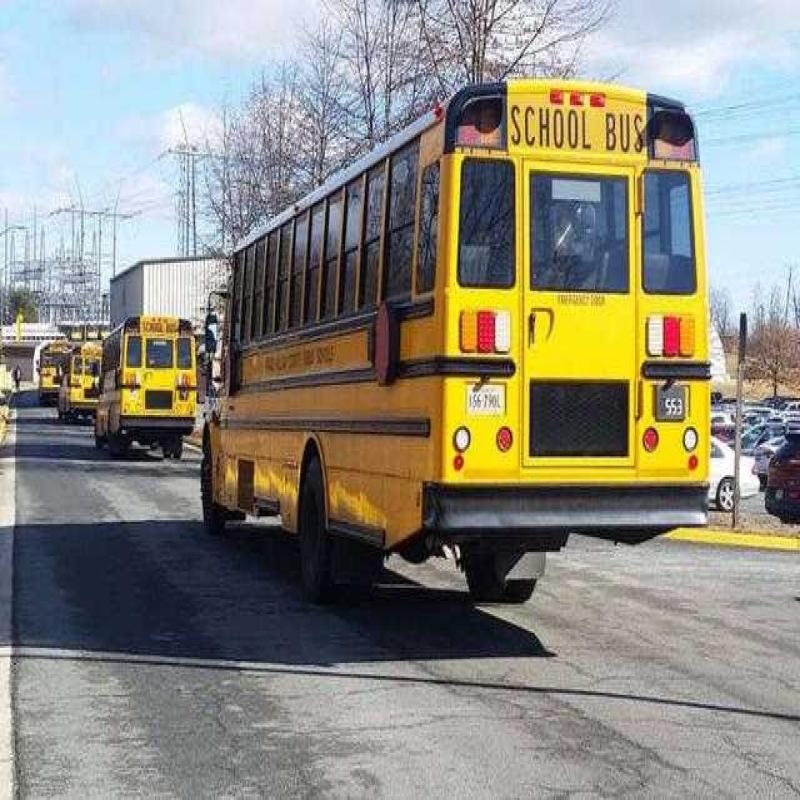bus: (208, 45, 703, 617), (84, 284, 199, 454)
